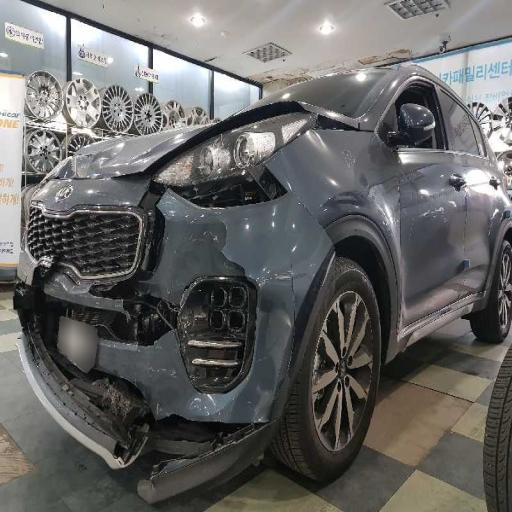broken: (79, 128, 343, 466)
dent: (172, 83, 340, 146)
